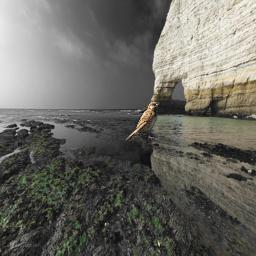Sparrow: (125, 101, 158, 141)
